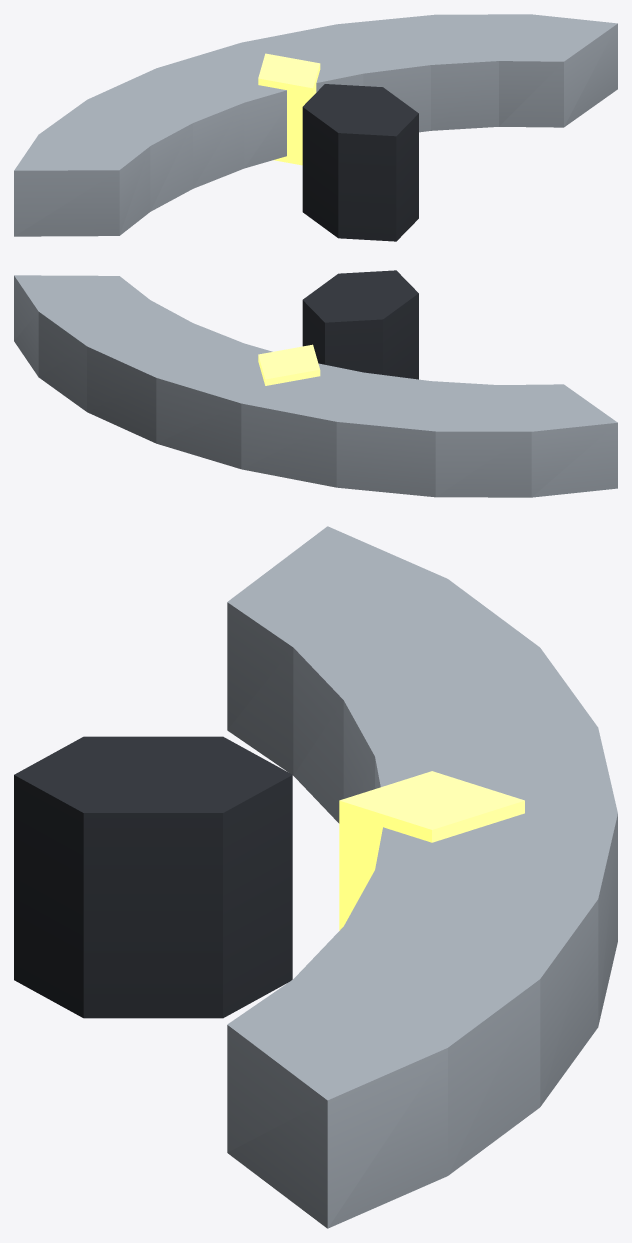
Rendered from weapon_spinning_blade.glb.
The picture shows the model from 3 angles, top to bottom: view 1: azimuth 30°, elevation 25°; view 2: azimuth 150°, elevation 25°; view 3: azimuth 270°, elevation 25°; orthographic projection. The views are drawn at different scales.
Parts seen in each view (by area): view 1: weapon_spinning_blade; view 2: weapon_spinning_blade; view 3: weapon_spinning_blade.
Part boxes in pixels (left/top/right/bottom): weapon_spinning_blade: left=14, top=14, right=617, bottom=241; weapon_spinning_blade: left=14, top=270, right=617, bottom=497; weapon_spinning_blade: left=14, top=526, right=617, bottom=1228.
Bounding box in the file's own units: 0.9 × 0.15 × 0.4.
